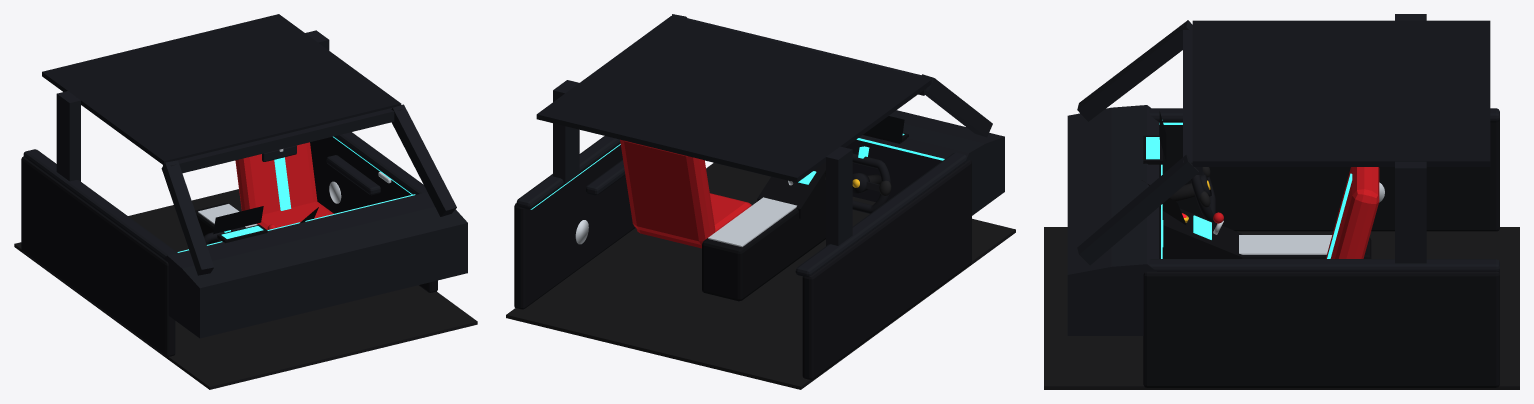
File: int_amboola.glb
The picture shows the model from 3 angles, left to right: view 1: azimuth 30°, elevation 25°; view 2: azimuth 150°, elevation 25°; view 3: azimuth 270°, elevation 25°; orthographic projection. The views are drawn at different scales.
Visible parts, largest first — view 1: box.011, Dash, box.015, box, box.018, box.004, box.010, box.001, beam.001, beam, box.008, box.005 (+5 smaller); view 2: box.011, box.015, box, box.004, Dash, box.018, box.016, box.001, box.008, box.017, Stack, box.009 (+7 smaller); view 3: box.011, box.004, Dash, box, box.015, box.005, box.009, beam.001, box.018, beam, Stack, box.017 (+4 smaller).
Boxes of the visible parts, box(x1,y1,x2,y2) form: box.011: box(42, 14, 401, 164); Dash: box(163, 192, 467, 338); box.015: box(14, 189, 477, 389); box: box(21, 156, 175, 357); box.018: box(235, 142, 317, 214); box.004: box(310, 137, 437, 292); box.010: box(163, 108, 402, 173); box.001: box(23, 149, 177, 260); beam.001: box(391, 104, 456, 216); beam: box(161, 160, 214, 275); box.008: box(56, 91, 80, 181); box.005: box(334, 132, 427, 194); box.011: box(536, 16, 931, 182); box.015: box(506, 163, 1015, 389); box: box(802, 160, 971, 380); box.004: box(514, 145, 635, 309); Dash: box(705, 110, 1004, 215); box.018: box(620, 139, 715, 244); box.016: box(702, 200, 825, 301); box.001: box(795, 152, 969, 276); box.008: box(826, 146, 852, 245); box.017: box(708, 197, 796, 246); Stack: box(757, 162, 825, 218); box.009: box(553, 80, 579, 183); box.011: box(1192, 20, 1490, 166); box.004: box(1143, 271, 1499, 387); Dash: box(1067, 105, 1162, 335); box: box(1159, 120, 1499, 231); box.015: box(1044, 227, 1519, 389); box.005: box(1149, 259, 1499, 271); box.009: box(1395, 161, 1426, 263); beam.001: box(1077, 154, 1198, 265); box.018: box(1325, 167, 1379, 258); beam: box(1077, 20, 1192, 121); Stack: box(1163, 208, 1242, 258); box.017: box(1239, 235, 1331, 254).
Size of the model in its own units: 1.93 by 1.22 by 2.4.
